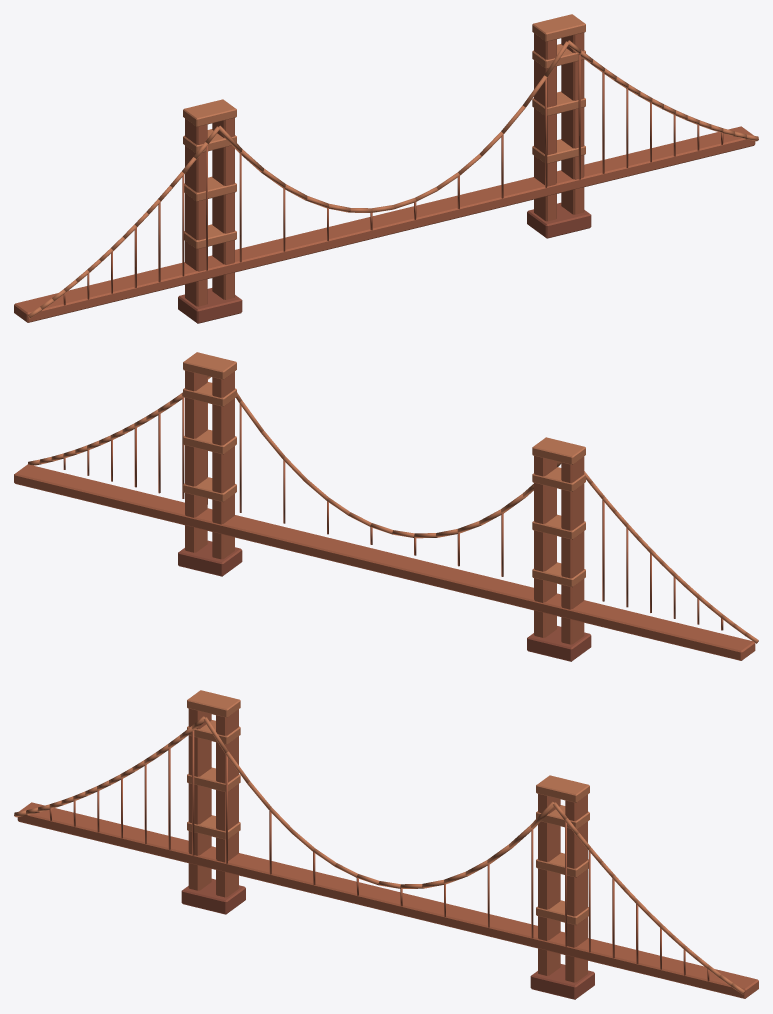
File: alc_far_goldengate.glb
3 renders of one model, top to bottom at view 1: azimuth 30°, elevation 25°; view 2: azimuth 150°, elevation 25°; view 3: azimuth 330°, elevation 25°, orthographic.
Parts seen in each view (by area): view 1: alc_far_goldengate; view 2: alc_far_goldengate; view 3: alc_far_goldengate.
Part boxes in pixels (<box>): alc_far_goldengate: <box>14,14,758,323</box>; alc_far_goldengate: <box>14,352,758,661</box>; alc_far_goldengate: <box>14,690,758,999</box>.
Bounding box in the file's own units: 4.81 × 1.28 × 0.23.
